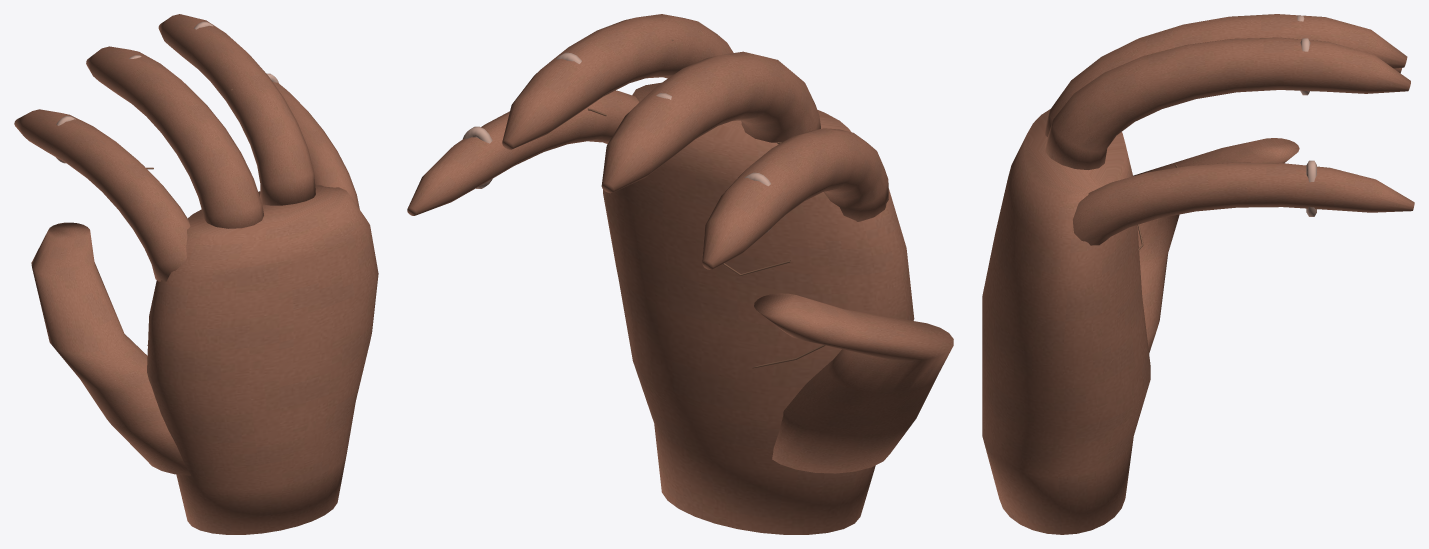
The model's file is player-hand-grip.glb.
3 renders of one model, left to right at view 1: azimuth 30°, elevation 25°; view 2: azimuth 150°, elevation 25°; view 3: azimuth 270°, elevation 25°, orthographic. The views are drawn at different scales.
Visible parts, largest first — view 1: player-hand-grip; view 2: player-hand-grip; view 3: player-hand-grip.
Boxes of the visible parts, box(x1,y1,x2,y2) form: player-hand-grip: box(14, 14, 378, 534); player-hand-grip: box(407, 14, 953, 534); player-hand-grip: box(982, 14, 1414, 534).
Bounding box in the file's own units: 0.0981 × 0.1248 × 0.102.
Materials: 3 (1 with a texture image).
